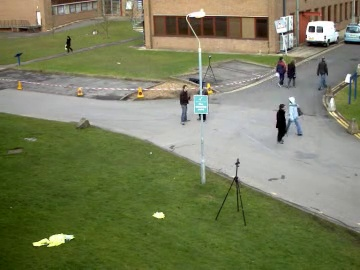person: (179, 82, 194, 123), (179, 85, 195, 123), (179, 84, 194, 124)
